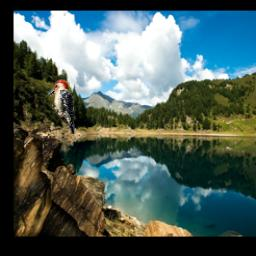Woodpecker: (48, 79, 75, 134)
